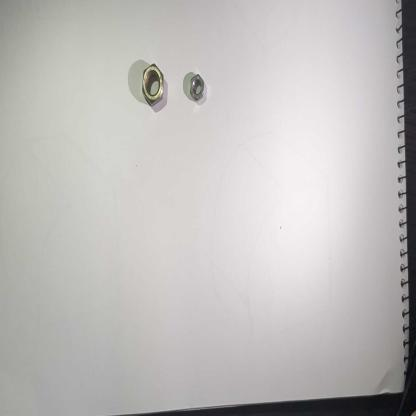NUTS: (137, 57, 169, 110), (186, 69, 212, 109)
